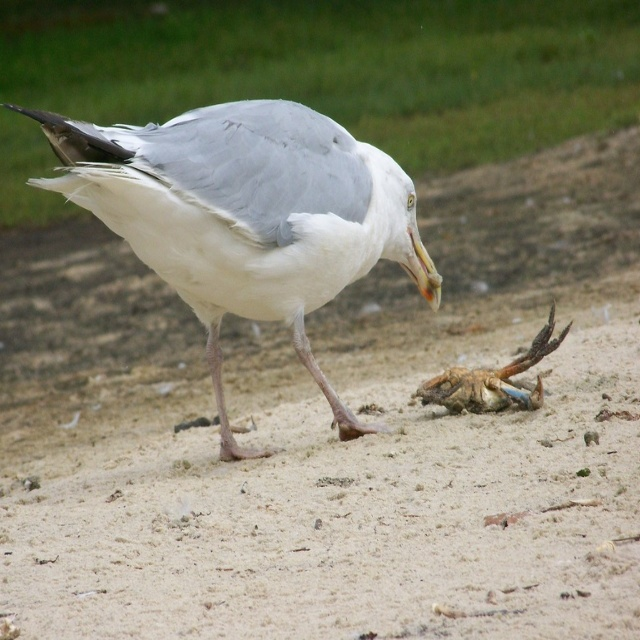Crab: (413, 300, 573, 414)
